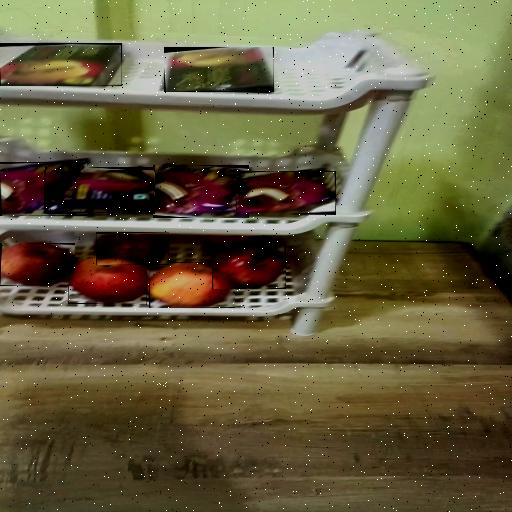Apple: (149, 262, 235, 308), (68, 258, 147, 306), (212, 244, 286, 289), (0, 243, 75, 286), (96, 232, 169, 265)
Choco Fills: (0, 43, 122, 86), (164, 47, 274, 92)
Choco Pie: (153, 165, 249, 218), (0, 162, 88, 216), (45, 170, 154, 213), (236, 172, 336, 216)
